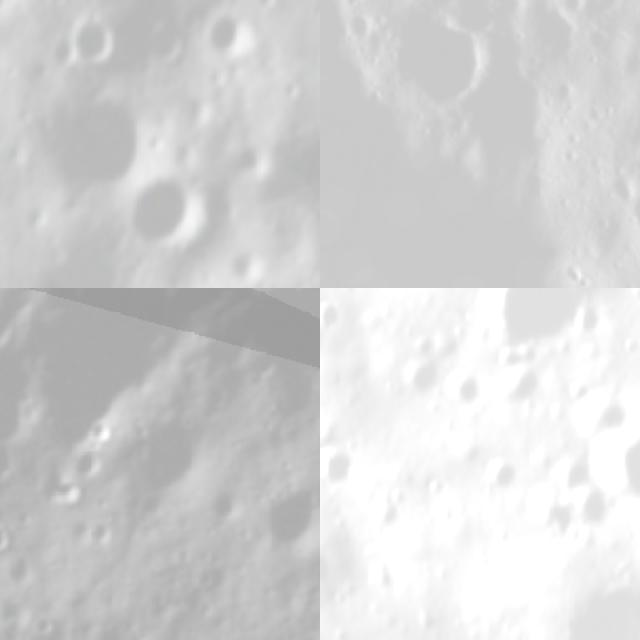crater: (320, 67, 640, 288), (387, 3, 512, 123), (34, 91, 162, 193), (132, 406, 222, 506), (120, 170, 216, 254), (478, 288, 586, 358), (267, 138, 320, 272), (36, 226, 147, 288), (247, 473, 320, 567), (583, 427, 640, 507), (386, 351, 442, 410), (516, 499, 580, 548), (570, 486, 634, 535), (488, 357, 542, 415), (469, 450, 524, 502), (211, 11, 267, 62), (440, 366, 494, 418), (70, 13, 121, 67), (147, 19, 192, 70), (320, 443, 361, 494), (200, 181, 247, 223), (210, 106, 247, 157), (236, 135, 278, 177), (85, 516, 127, 556), (83, 414, 126, 451), (68, 446, 109, 482), (4, 552, 41, 589), (581, 21, 615, 61), (230, 242, 272, 274), (320, 296, 346, 347), (51, 30, 82, 71), (320, 542, 342, 599), (622, 180, 640, 246), (27, 608, 64, 640), (182, 90, 214, 123), (0, 516, 20, 559), (281, 74, 307, 100), (183, 4, 205, 32), (0, 585, 9, 622), (254, 0, 280, 7)
